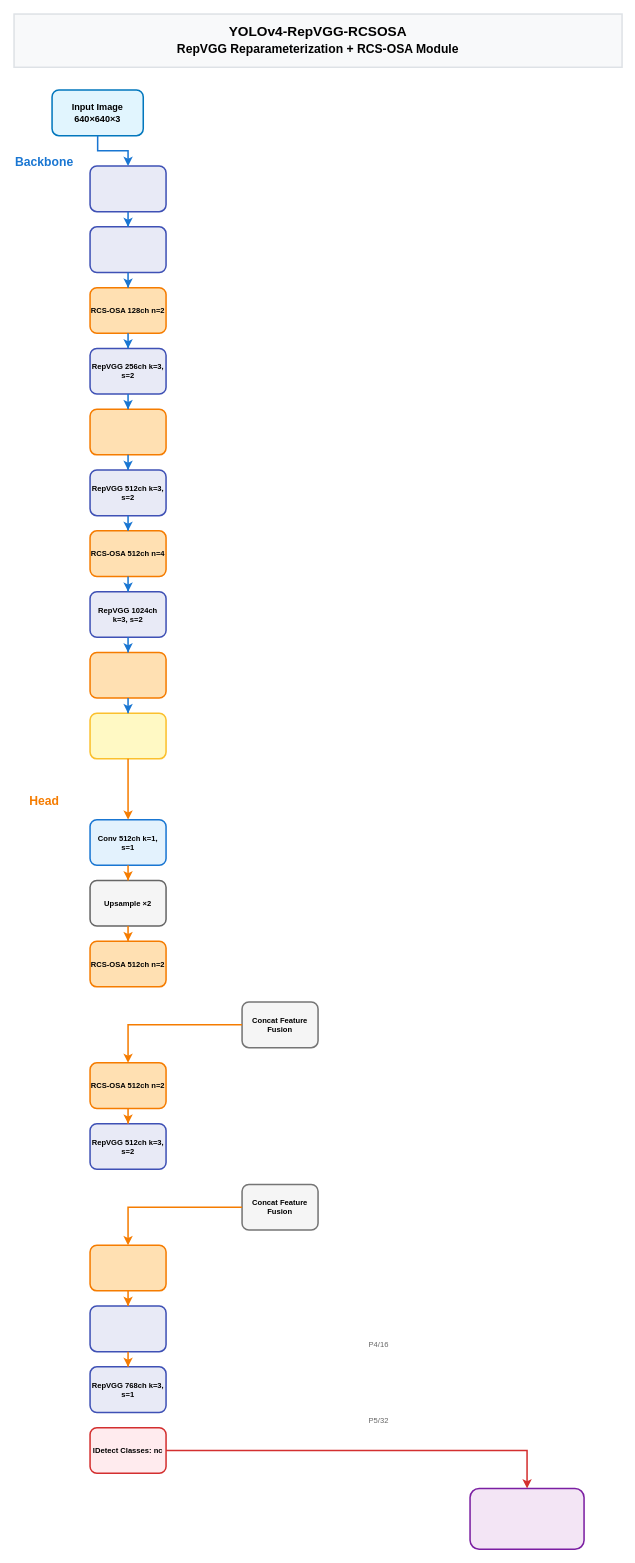
Image size: 635x1563. Some labels were removed from this diagram. Each missing label, with the centre of its shape:
Detection Output Bounding Boxes Class Predictions: (526,1518)
RCS-OSA 1024ch n=2: (127,674)
RCS-OSA 256ch n=2: (127,431)
RCS-OSA 768ch n=2: (127,1267)
RepVGG 128ch k=3, s=2: (127,249)
RepVGG 512ch k=3, s=1: (127,1328)
RepVGG 64ch k=3, s=2: (127,188)
SPPF 1024ch k=5: (127,735)
